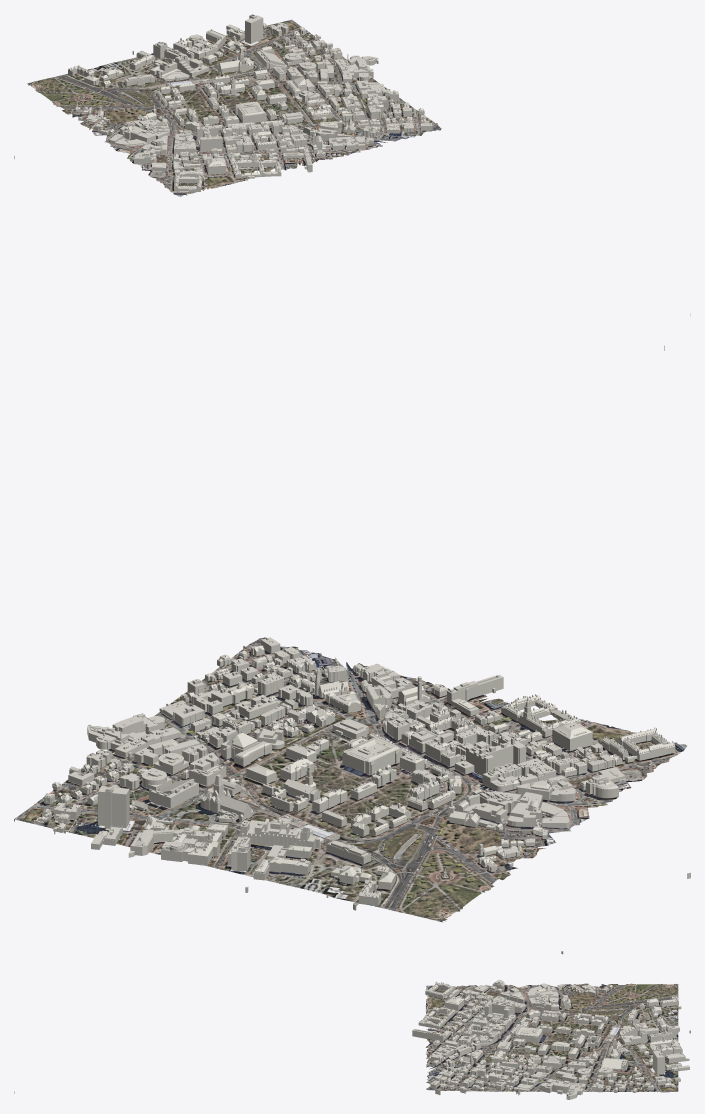
The model's file is campus.glb.
3 renders of one model, top to bottom at view 1: azimuth 30°, elevation 25°; view 2: azimuth 150°, elevation 25°; view 3: azimuth 270°, elevation 25°, orthographic. The views are drawn at different scales.
Bounding box in the file's own units: 1114 × 97.01 × 2140.
2 materials, 1 textured.
